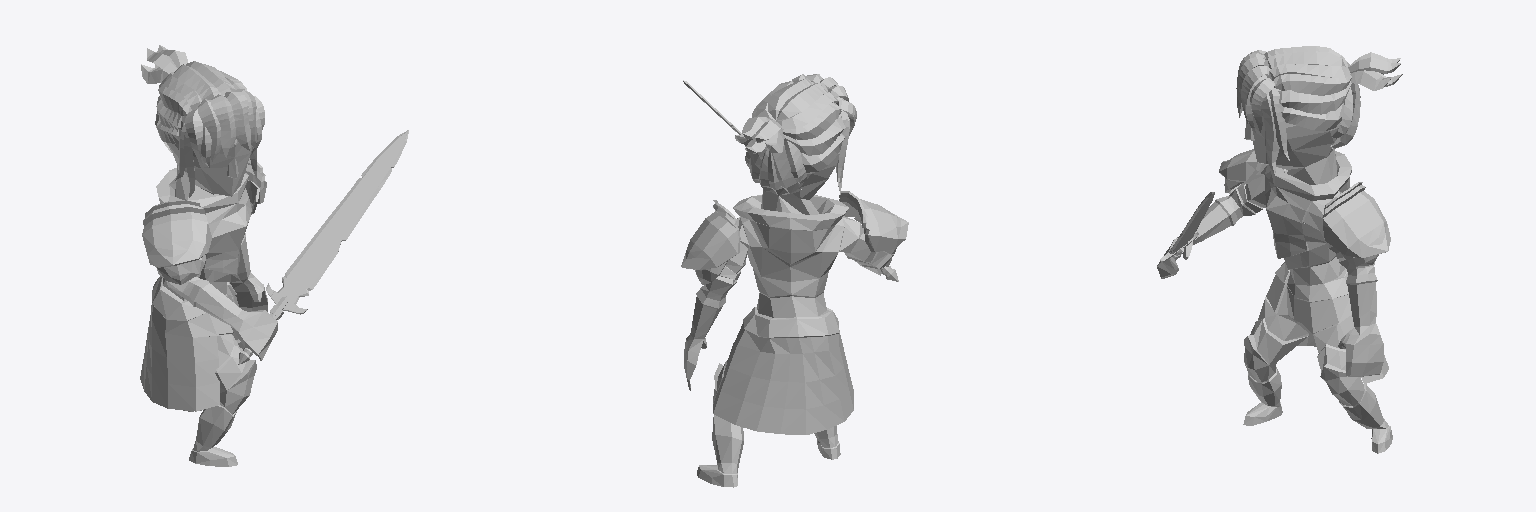
The picture shows the model from 3 angles: view 1: azimuth 30°, elevation 25°; view 2: azimuth 150°, elevation 25°; view 3: azimuth 270°, elevation 25°; orthographic projection.
Visible parts, largest first — view 1: Warrior.002__ncl1_29.005, Face__ncl1_29.002, Warrior_Sword_Cylinder.001, Shoulder.R__ncl1_29.001, Shoulder.L__ncl1_29.000; view 2: Warrior.002__ncl1_29.005, Face__ncl1_29.002, Shoulder.L__ncl1_29.000, Shoulder.R__ncl1_29.001; view 3: Warrior.002__ncl1_29.005, Face__ncl1_29.002, Shoulder.L__ncl1_29.000, Shoulder.R__ncl1_29.001, Warrior_Sword_Cylinder.001.
Boxes of the visible parts, x1,y1,x2,y2 form: Warrior.002__ncl1_29.005: [140, 116, 277, 466]; Face__ncl1_29.002: [141, 45, 264, 197]; Warrior_Sword_Cylinder.001: [238, 130, 408, 364]; Shoulder.R__ncl1_29.001: [142, 200, 211, 284]; Shoulder.L__ncl1_29.000: [245, 158, 266, 214]; Warrior.002__ncl1_29.005: [684, 117, 893, 487]; Face__ncl1_29.002: [735, 74, 856, 195]; Shoulder.L__ncl1_29.000: [681, 200, 740, 284]; Shoulder.R__ncl1_29.001: [839, 191, 908, 254]; Warrior.002__ncl1_29.005: [1157, 109, 1392, 453]; Face__ncl1_29.002: [1236, 46, 1402, 174]; Shoulder.L__ncl1_29.000: [1322, 182, 1390, 266]; Shoulder.R__ncl1_29.001: [1219, 149, 1266, 193]; Warrior_Sword_Cylinder.001: [1160, 192, 1214, 261].
Size of the model in its own units: 1.87 by 2.8 by 1.67.